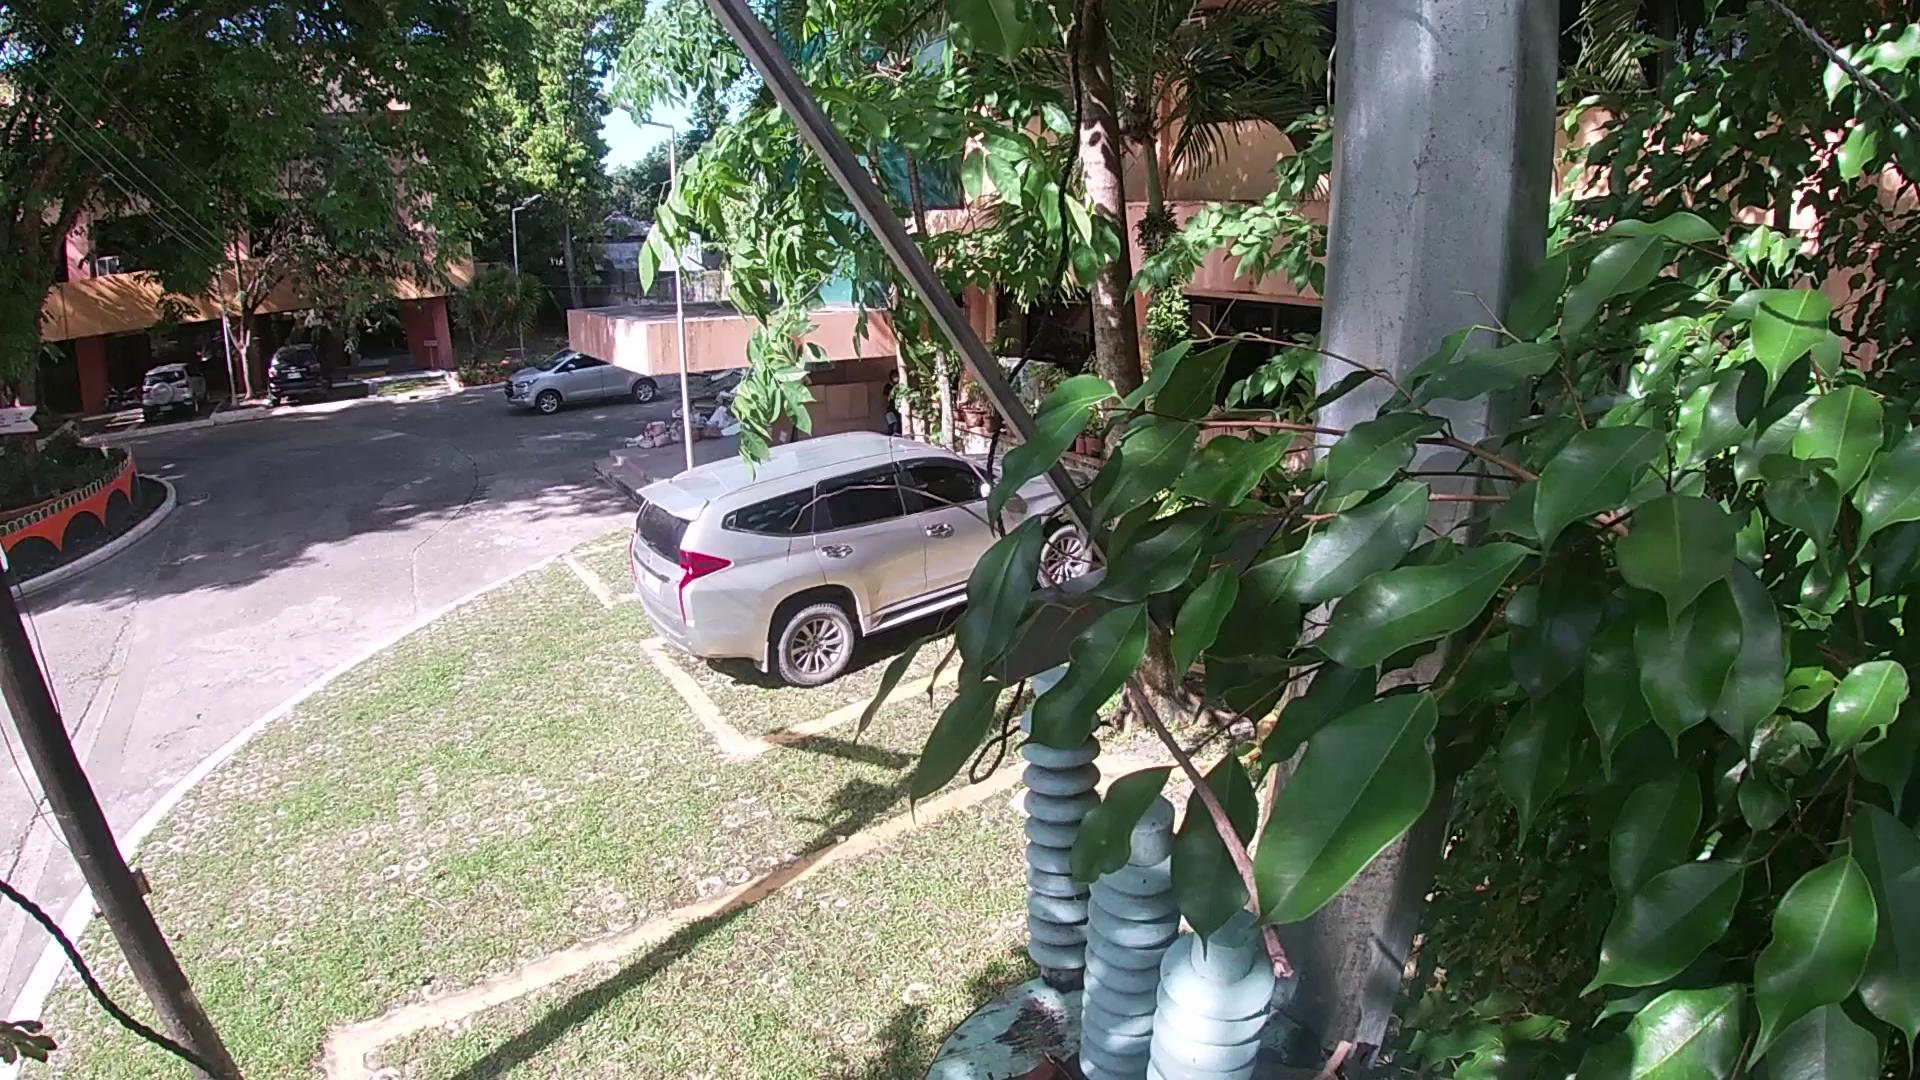mahogany fruit: (971, 1051, 1075, 1075)
tree branch: (795, 404, 1312, 994), (1316, 1033, 1361, 1080), (1250, 1054, 1309, 1077)
